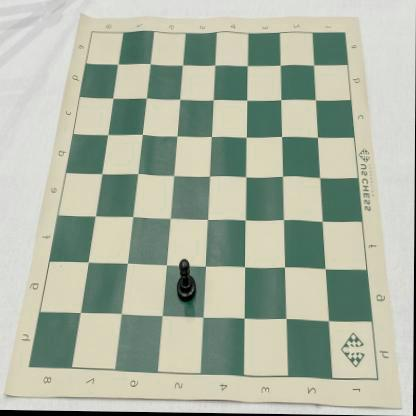black-pawn: (176, 259, 198, 303)
